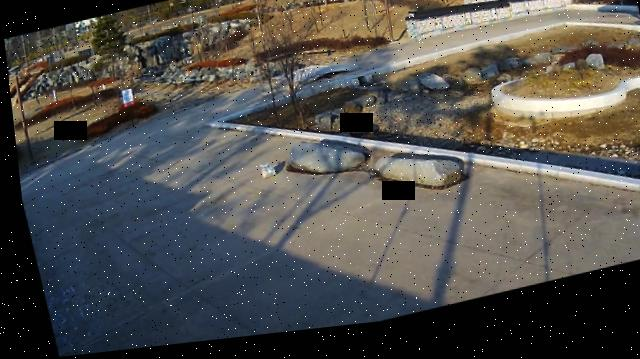trash: (255, 165, 272, 184)
